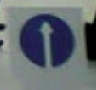forward: (19, 13, 77, 68)
